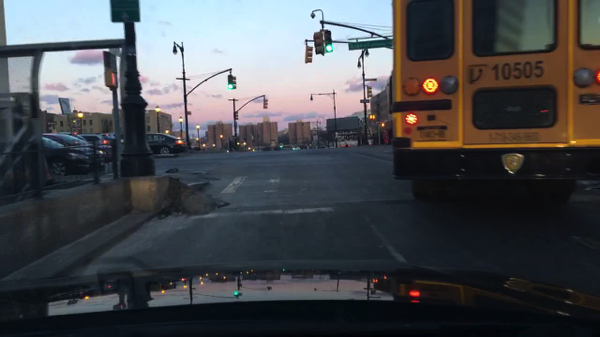car: (43, 134, 103, 176), (55, 132, 112, 162), (121, 133, 185, 153), (78, 133, 113, 160), (103, 133, 124, 150), (96, 133, 115, 148), (279, 144, 297, 152), (315, 146, 327, 150)
person: (383, 132, 387, 144)
traffic light: (314, 30, 323, 55), (323, 30, 332, 52), (106, 71, 117, 87), (305, 44, 312, 63), (367, 86, 373, 97), (228, 75, 232, 89), (232, 77, 236, 89), (264, 99, 267, 109), (369, 114, 374, 119), (235, 112, 238, 120), (380, 124, 385, 127)
traffic sign: (110, 1, 140, 23), (348, 40, 392, 51), (103, 52, 117, 67), (59, 98, 71, 114), (360, 100, 372, 104), (364, 79, 377, 81)
truck: (392, 0, 599, 199)
